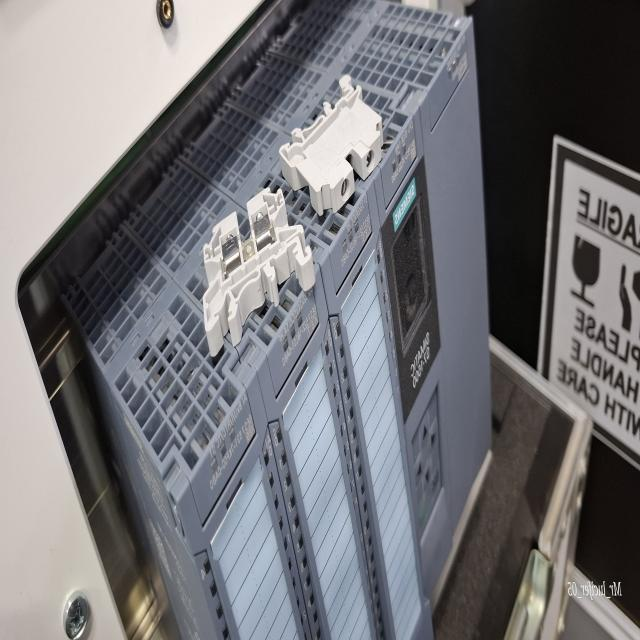Inverted: (272, 35, 392, 220)
Pass: (202, 139, 321, 368)
